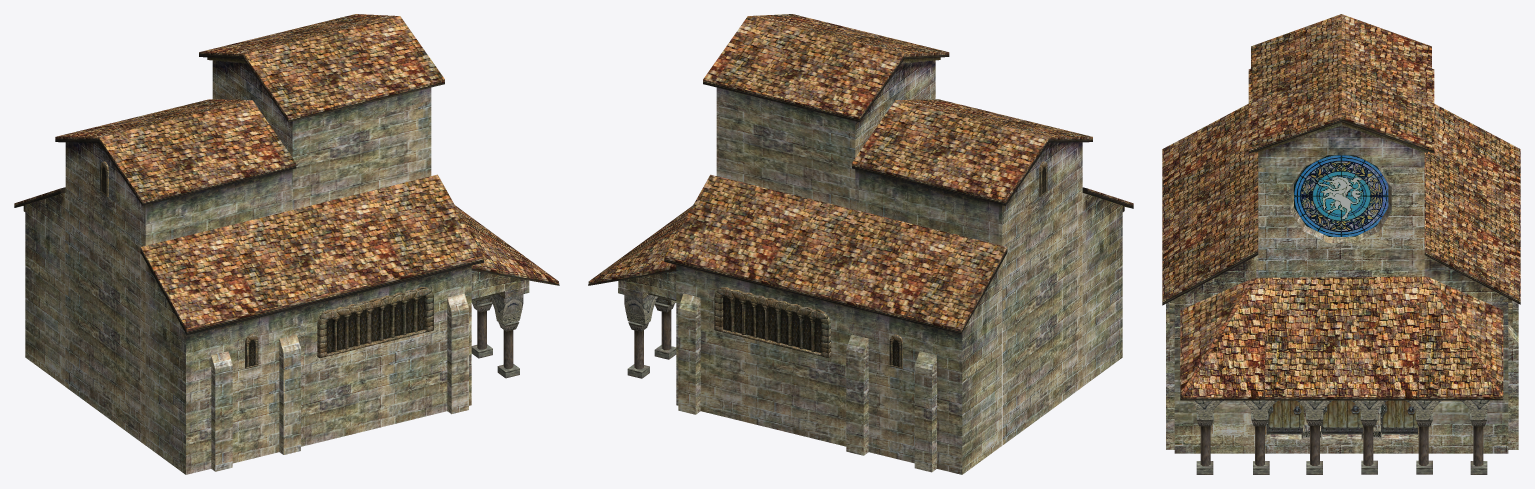
The model's file is tn5_mer.glb.
3 renders of one model, left to right at view 1: azimuth 30°, elevation 25°; view 2: azimuth 150°, elevation 25°; view 3: azimuth 270°, elevation 25°, orthographic. The views are drawn at different scales.
Visible parts, largest first — view 1: tn5_mer-col; view 2: tn5_mer-col; view 3: tn5_mer-col.
Part boxes in pixels (<box>): tn5_mer-col: <box>14,14,559,474</box>; tn5_mer-col: <box>588,14,1133,474</box>; tn5_mer-col: <box>1162,14,1520,474</box>.
Size of the model in its own units: 17.86 by 14.6 by 13.9.
Materials: 18 (18 with a texture image).
